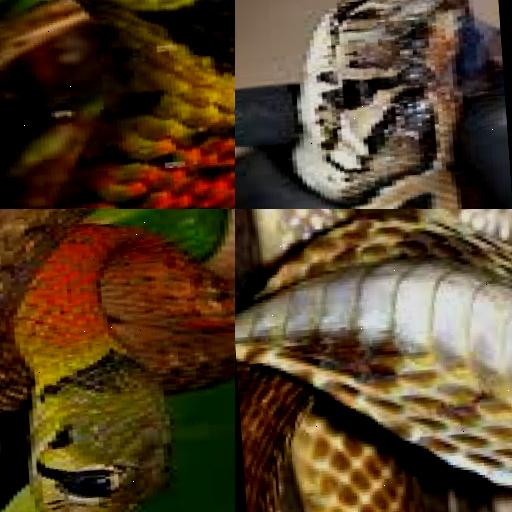snake: (235, 209, 512, 512), (0, 209, 235, 512), (235, 0, 512, 209), (0, 0, 235, 209)
